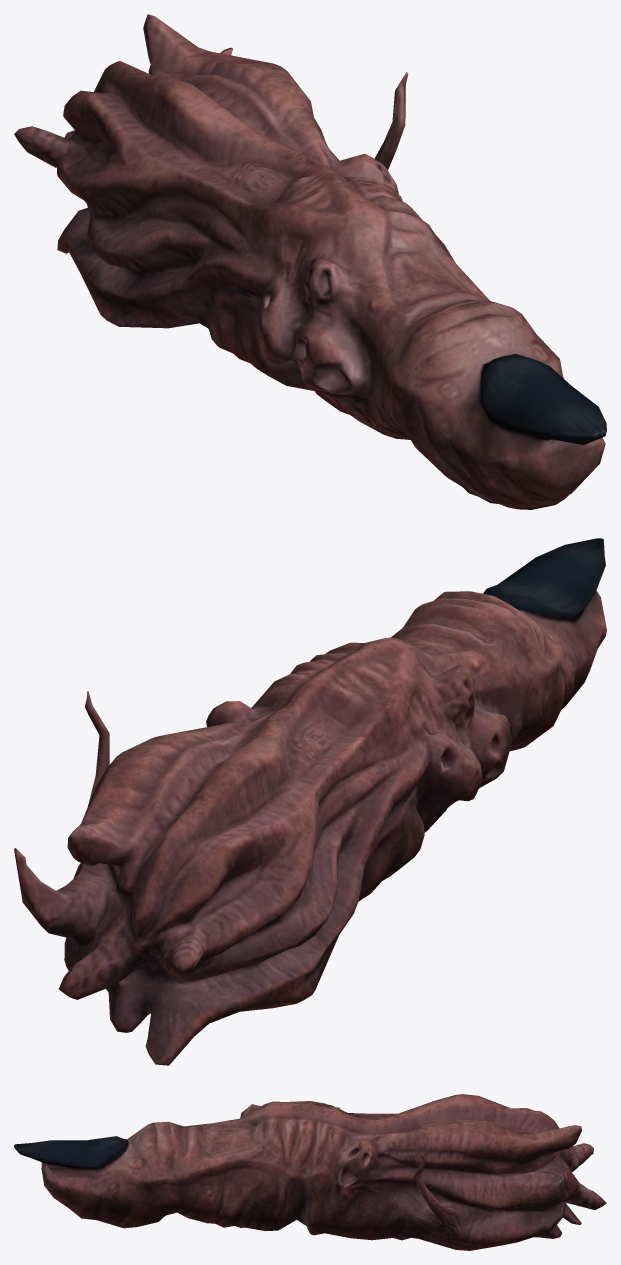
File: item_sukuna_finger.glb
The picture shows the model from 3 angles, top to bottom: view 1: azimuth 30°, elevation 25°; view 2: azimuth 150°, elevation 25°; view 3: azimuth 270°, elevation 25°; orthographic projection. The views are drawn at different scales.
Parts seen in each view (by area): view 1: MSH_Jujutsu_sukuna_Finger; view 2: MSH_Jujutsu_sukuna_Finger; view 3: MSH_Jujutsu_sukuna_Finger.
Boxes of the visible parts, x1,y1,x2,y2 form: MSH_Jujutsu_sukuna_Finger: (14,14,606,509); MSH_Jujutsu_sukuna_Finger: (14,538,606,1065); MSH_Jujutsu_sukuna_Finger: (14,1094,606,1250).
Size of the model in its own units: 2.4 by 1.95 by 7.82.
Materials: 1 (1 with a texture image).
